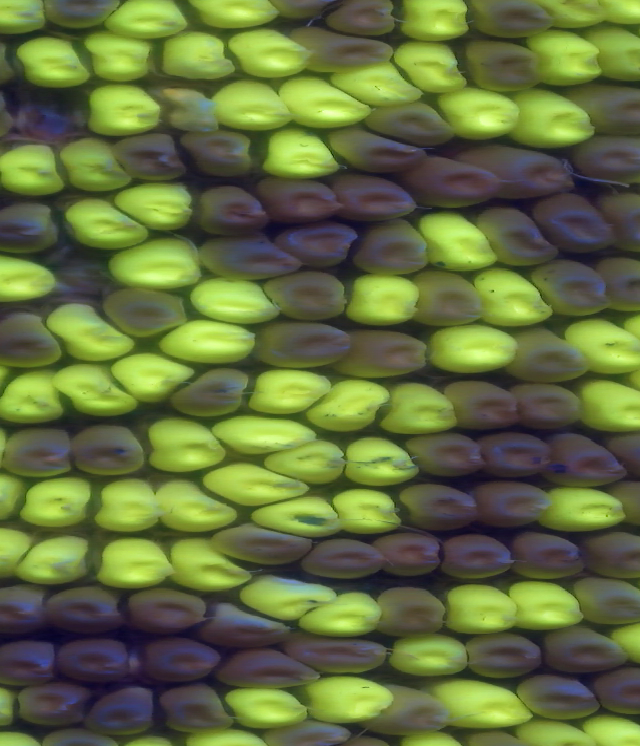fluorescent: (107, 345, 198, 417), (423, 673, 535, 730), (106, 233, 205, 295), (505, 87, 599, 150), (161, 312, 257, 372), (275, 75, 374, 133), (43, 304, 140, 363), (49, 362, 144, 422), (418, 210, 505, 275), (154, 476, 244, 536), (259, 125, 352, 183), (434, 83, 522, 142), (520, 26, 605, 87), (470, 267, 556, 327), (325, 62, 430, 111), (295, 584, 384, 640), (213, 414, 319, 461), (92, 529, 172, 591), (536, 486, 633, 537), (305, 376, 386, 436), (380, 633, 477, 683), (204, 464, 307, 511), (211, 81, 298, 136), (302, 676, 394, 728), (152, 35, 247, 85), (387, 41, 470, 98), (171, 532, 249, 592), (565, 317, 640, 379), (226, 26, 308, 82), (112, 178, 197, 232), (426, 325, 527, 370), (83, 82, 165, 137), (15, 35, 94, 92), (249, 370, 332, 424), (440, 582, 523, 636), (345, 271, 425, 327), (237, 576, 332, 623), (61, 135, 132, 197), (93, 473, 163, 534), (383, 378, 454, 438), (508, 578, 585, 633), (96, 1, 191, 45), (65, 195, 145, 247), (79, 33, 159, 84), (220, 683, 305, 731), (189, 279, 278, 324), (264, 444, 351, 490), (19, 477, 93, 531), (145, 420, 224, 470), (0, 143, 70, 198), (0, 368, 65, 427), (571, 377, 640, 432), (344, 438, 417, 488), (19, 535, 93, 584), (252, 495, 340, 536), (0, 249, 63, 304), (585, 23, 640, 86), (401, 1, 476, 44), (180, 1, 280, 33), (326, 488, 395, 532), (541, 1, 614, 31), (0, 525, 35, 580), (522, 719, 593, 746), (0, 1, 56, 34), (583, 715, 640, 746), (0, 472, 30, 523), (606, 622, 640, 667), (592, 1, 640, 22)
nonfluorescent: (456, 143, 576, 202), (249, 317, 355, 378), (360, 96, 468, 151), (331, 323, 428, 384), (476, 198, 555, 271), (534, 623, 634, 680), (175, 122, 266, 183), (406, 153, 500, 212), (506, 325, 595, 387), (282, 631, 395, 679), (366, 680, 454, 740), (538, 193, 618, 259), (510, 669, 604, 725), (346, 221, 435, 280), (261, 269, 352, 326), (542, 427, 627, 488), (281, 25, 395, 70), (215, 645, 325, 691), (214, 518, 313, 569), (396, 479, 487, 534), (171, 362, 253, 423), (528, 260, 612, 319), (99, 284, 189, 339), (298, 532, 390, 585), (462, 36, 549, 90), (0, 423, 77, 484), (434, 531, 521, 584), (325, 125, 432, 168), (464, 629, 549, 683), (329, 169, 418, 220), (468, 478, 555, 530), (157, 683, 241, 736), (196, 238, 304, 279), (134, 633, 226, 681), (119, 584, 209, 633), (410, 271, 486, 329), (448, 376, 521, 436), (44, 580, 127, 632), (366, 528, 449, 580), (72, 418, 145, 477), (13, 680, 97, 731), (51, 634, 133, 686), (568, 80, 640, 139), (110, 132, 188, 186), (509, 530, 588, 583), (476, 429, 558, 480), (0, 312, 67, 374), (258, 175, 342, 223), (371, 589, 450, 640), (81, 686, 158, 738), (406, 429, 483, 481), (563, 133, 640, 185), (566, 576, 640, 630), (196, 184, 272, 236), (271, 223, 359, 267), (467, 1, 555, 44), (205, 602, 295, 643), (509, 382, 584, 431), (0, 198, 59, 254), (0, 577, 54, 638), (0, 642, 62, 692), (579, 531, 640, 581), (587, 663, 640, 720), (319, 1, 399, 38), (594, 250, 640, 314), (40, 1, 128, 31), (259, 718, 353, 746), (602, 191, 640, 257), (601, 428, 640, 479)
